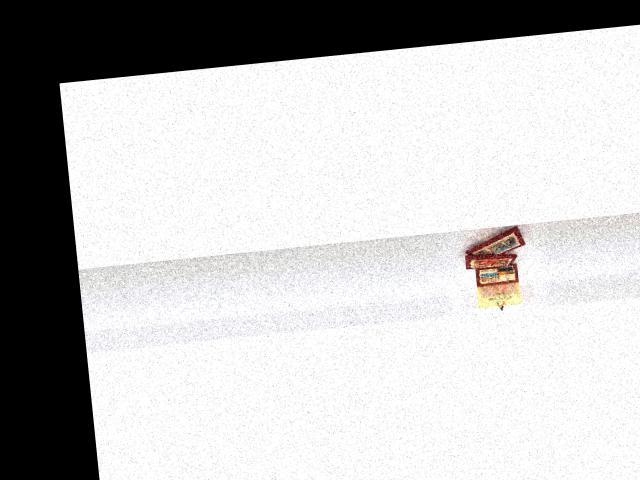chocolate: (460, 219, 539, 262)
